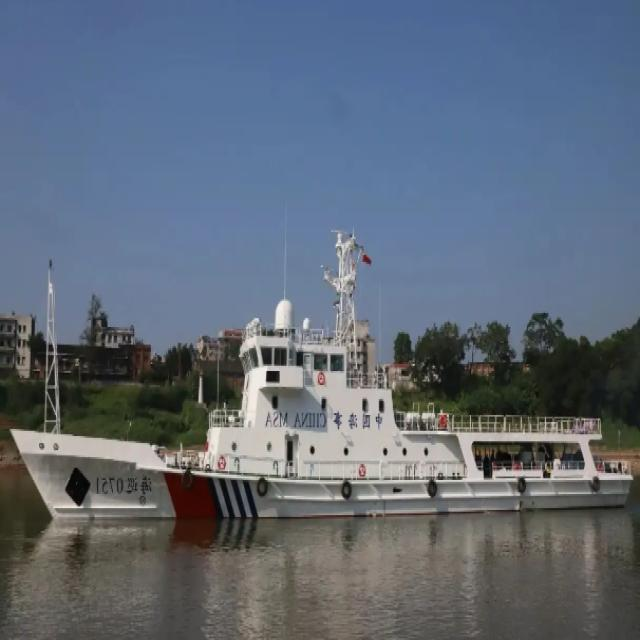navalvessels: (10, 234, 630, 532)
